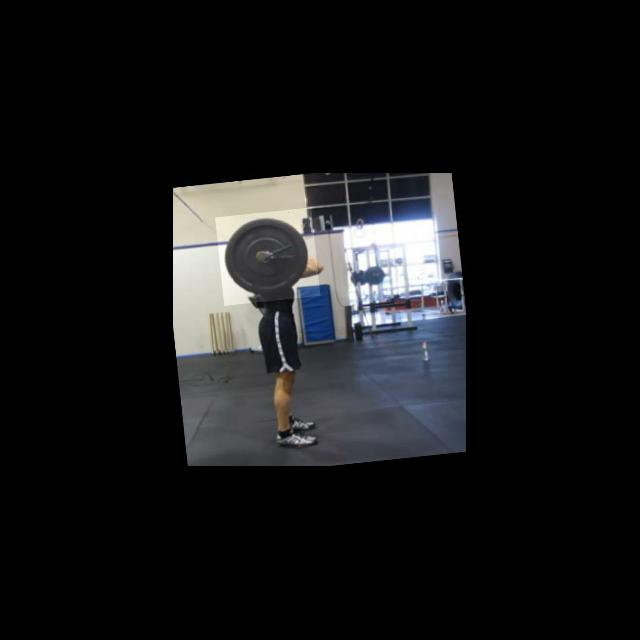barbell: (215, 207, 320, 306)
